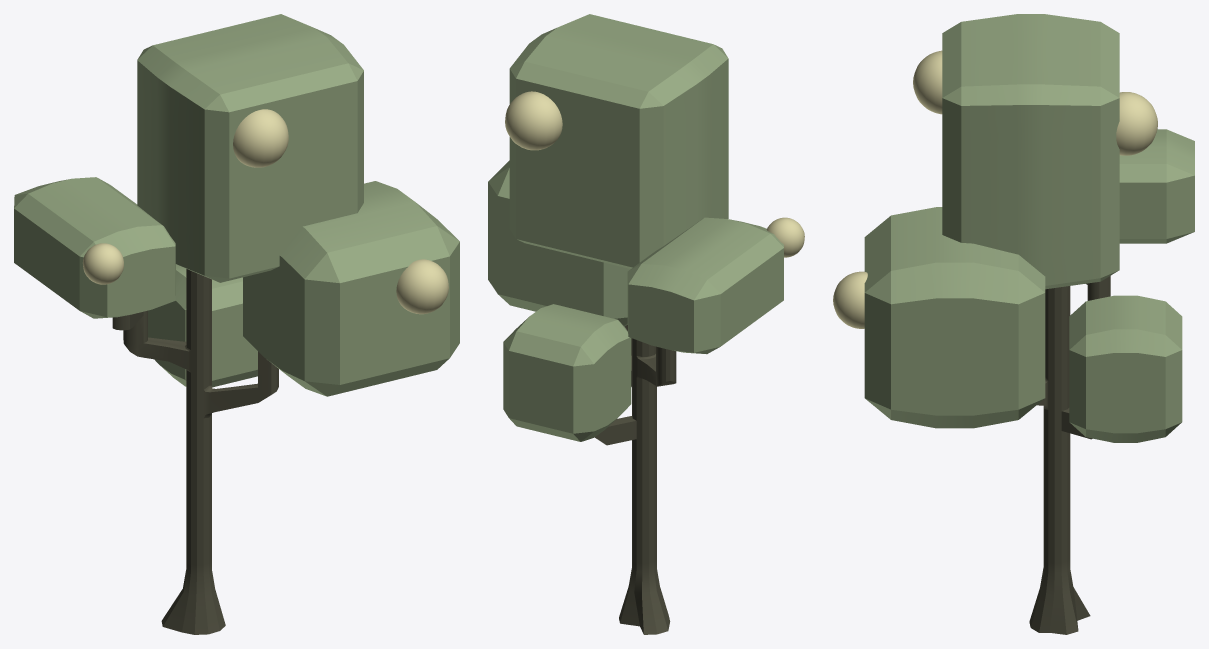
The model's file is HighTree2AppleDark.fbx.
3 views of the same model, side by side, from view 1: azimuth 30°, elevation 25°; view 2: azimuth 150°, elevation 25°; view 3: azimuth 270°, elevation 25° (orthographic). The views are drawn at different scales.
Parts seen in each view (by area): view 1: pasted__Crown_Big1, pasted__Crown_Sml3, pasted__Crown_Sml1, pasted__Bark2, pasted__Crown_Sml2, pasted__pasted__pSphere17, pasted__pSphere18, pSphere18; view 2: pasted__Crown_Big1, pasted__Crown_Sml1, pasted__Crown_Sml2, pasted__Crown_Sml3, pasted__Bark2, pasted__pSphere17, pSphere18; view 3: pasted__Crown_Big1, pasted__Crown_Sml3, pasted__Crown_Sml2, pasted__Bark2, pasted__Crown_Sml1, pasted__pSphere17, pasted__pSphere18, pasted__pasted__pSphere17.
Part boxes in pixels (x1=…): pasted__Crown_Big1: x1=137, y1=14, x2=363, y2=282; pasted__Crown_Sml3: x1=243, y1=181, x2=459, y2=396; pasted__Crown_Sml1: x1=14, y1=177, x2=175, y2=318; pasted__Bark2: x1=112, y1=269, x2=278, y2=634; pasted__Crown_Sml2: x1=148, y1=264, x2=257, y2=387; pasted__pasted__pSphere17: x1=233, y1=109, x2=288, y2=167; pasted__pSphere18: x1=396, y1=259, x2=448, y2=314; pSphere18: x1=83, y1=243, x2=123, y2=284; pasted__Crown_Big1: x1=509, y1=14, x2=728, y2=268; pasted__Crown_Sml1: x1=627, y1=217, x2=783, y2=354; pasted__Crown_Sml2: x1=503, y1=304, x2=631, y2=441; pasted__Crown_Sml3: x1=488, y1=160, x2=630, y2=326; pasted__Bark2: x1=595, y1=325, x2=676, y2=634; pasted__pSphere17: x1=505, y1=91, x2=562, y2=150; pSphere18: x1=766, y1=217, x2=804, y2=257; pasted__Crown_Big1: x1=942, y1=14, x2=1119, y2=289; pasted__Crown_Sml3: x1=864, y1=207, x2=1045, y2=428; pasted__Crown_Sml2: x1=1069, y1=295, x2=1182, y2=442; pasted__Bark2: x1=1029, y1=276, x2=1110, y2=634; pasted__Crown_Sml1: x1=1119, y1=129, x2=1194, y2=243; pasted__pSphere17: x1=1116, y1=92, x2=1157, y2=155; pasted__pSphere18: x1=833, y1=271, x2=867, y2=328; pasted__pasted__pSphere17: x1=913, y1=50, x2=942, y2=114.
Size of the model in its own units: 3.98 by 6.84 by 3.77.
